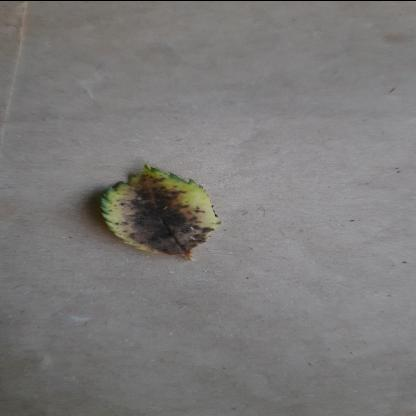downy-mildew: (94, 163, 222, 255)
